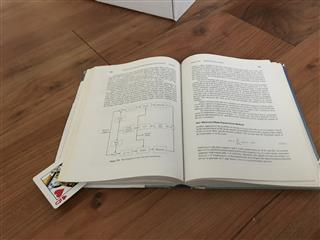QueenOfHearts: (32, 159, 88, 209)
